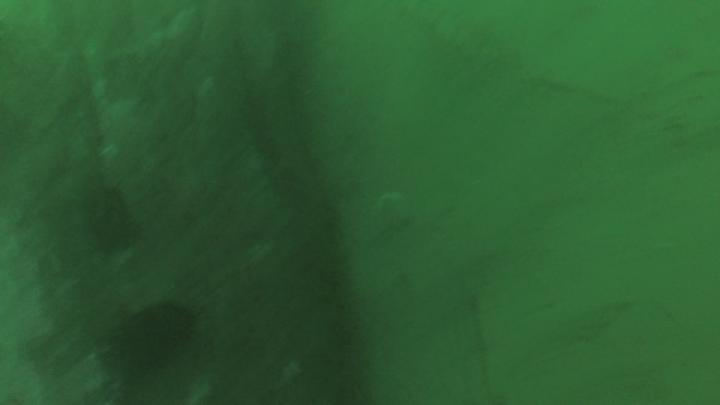echinus: (106, 296, 200, 394), (82, 183, 136, 257)
